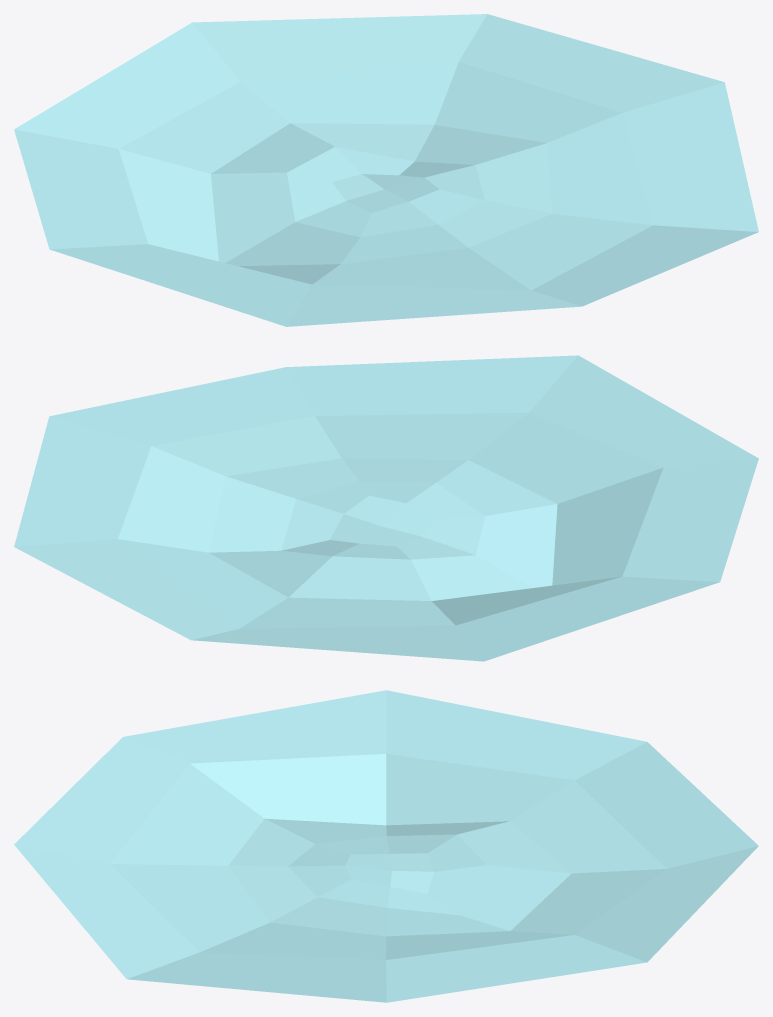
The model's file is Mug_Water.fbx.
3 views of the same model, one above another, from view 1: azimuth 30°, elevation 25°; view 2: azimuth 150°, elevation 25°; view 3: azimuth 270°, elevation 25° (orthographic). The views are drawn at different scales.
Parts seen in each view (by area): view 1: Mug_Liquid_Water; view 2: Mug_Liquid_Water; view 3: Mug_Liquid_Water.
Part boxes in pixels (x1,y1,x2,y2): Mug_Liquid_Water: (14,14,758,326); Mug_Liquid_Water: (14,355,758,661); Mug_Liquid_Water: (14,690,758,1002).
Size of the model in its own units: 168 by 14.7 by 168.
